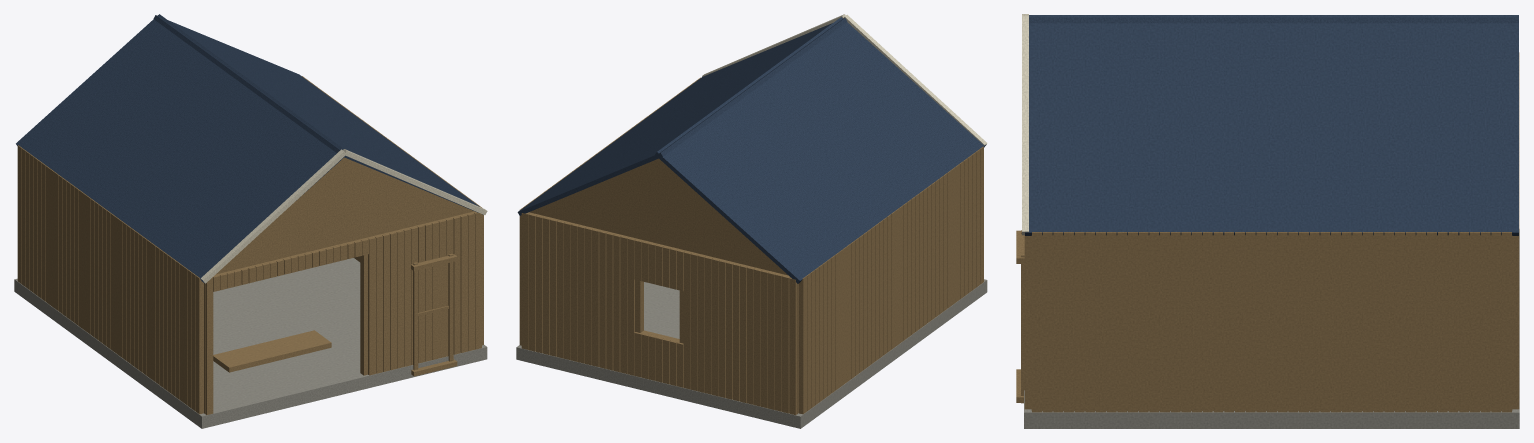
The model's file is CARWASH2_lod2.glb.
3 renders of one model, left to right at view 1: azimuth 30°, elevation 25°; view 2: azimuth 150°, elevation 25°; view 3: azimuth 270°, elevation 25°, orthographic. The views are drawn at different scales.
Visible parts, largest first — view 1: CARWASH2_LOD2; view 2: CARWASH2_LOD2; view 3: CARWASH2_LOD2.
Part boxes in pixels (left/top/right/bottom): CARWASH2_LOD2: left=14, top=14, right=487, bottom=428; CARWASH2_LOD2: left=516, top=14, right=987, bottom=428; CARWASH2_LOD2: left=1016, top=14, right=1519, bottom=428.
Size of the model in its own units: 7.25 by 5.92 by 8.38.
8 materials, 6 textured.
